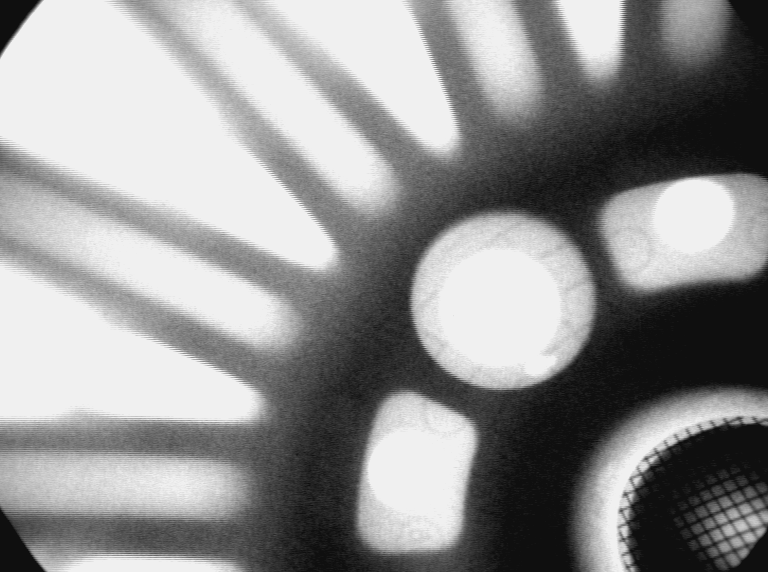defect: (521, 351, 563, 381)
